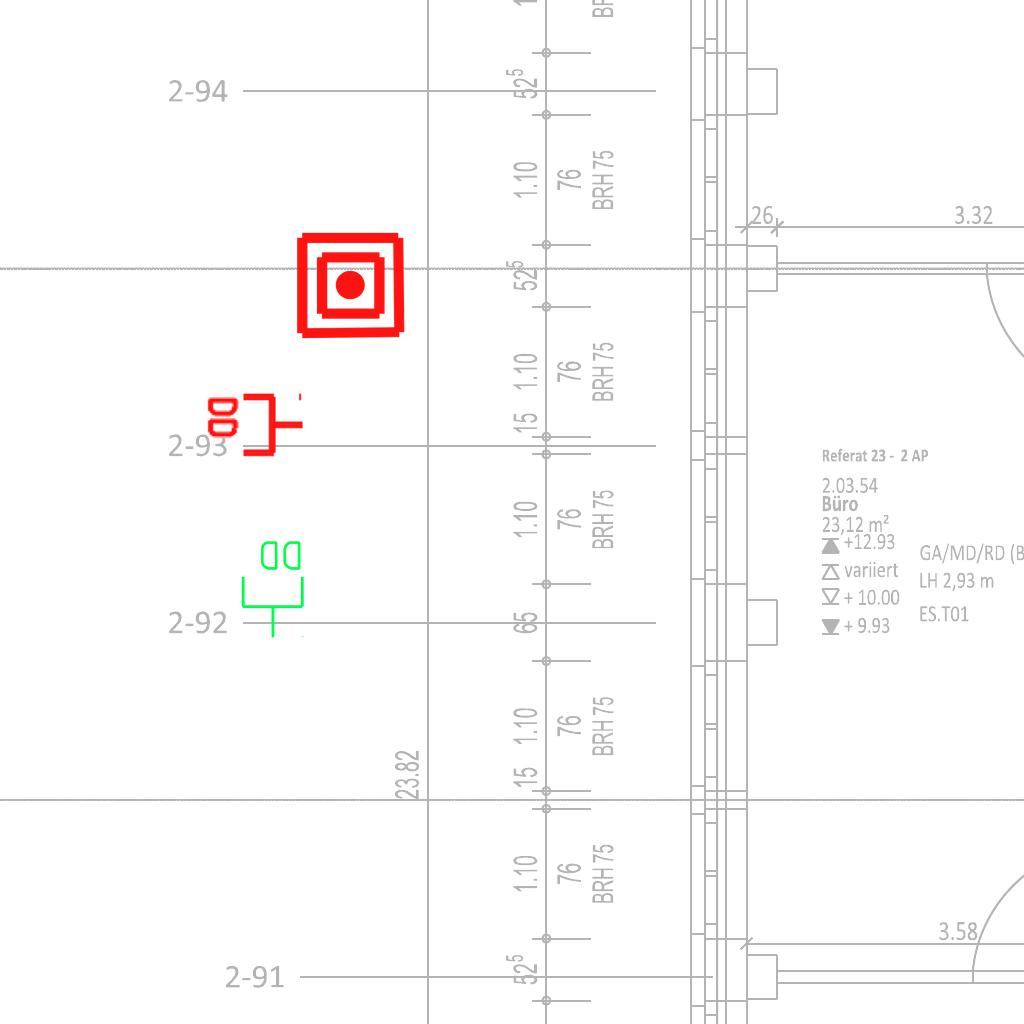Datenanschluss_zweifach: (239, 537, 308, 640), (203, 392, 306, 461)
NAM-Nichtautomatischer_Melder: (294, 229, 407, 342)
